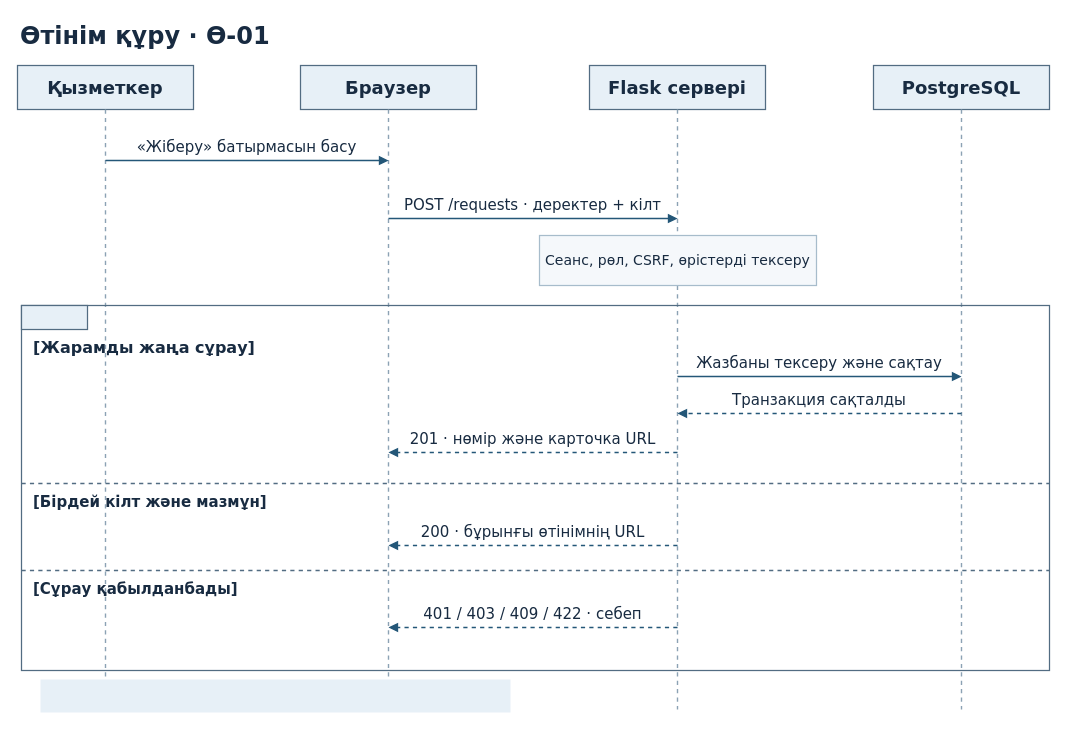
Image size: 1069x729. Some labels were removed from this diagram. The shapes that lost their labels are listed below. From the top down, each one's box as (x1, y1, x2, y2) in pixels, then its label:
(20, 304, 88, 330): alt
(40, 679, 510, 712): Нәтиже · карточка ашылады немесе қате көрсетіледі
